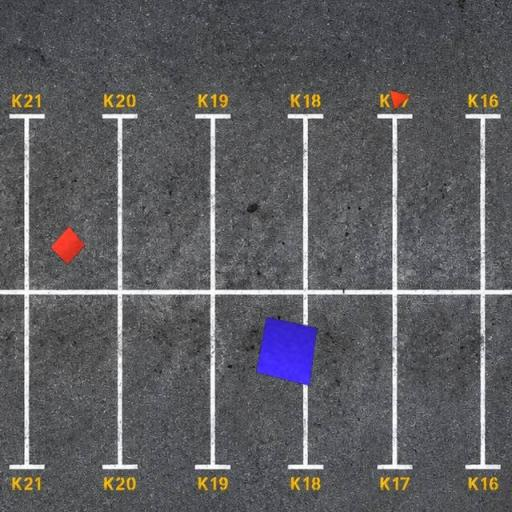BLUE_SQUARE: (256, 316, 318, 387)
RED_SQUARE: (50, 226, 86, 266)
